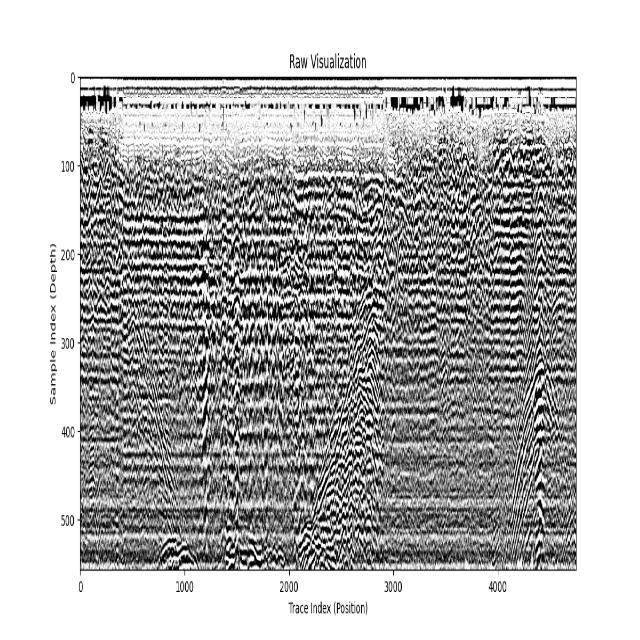anomaly: (302, 230, 384, 572), (509, 174, 567, 566), (148, 531, 200, 568), (224, 537, 288, 567)
